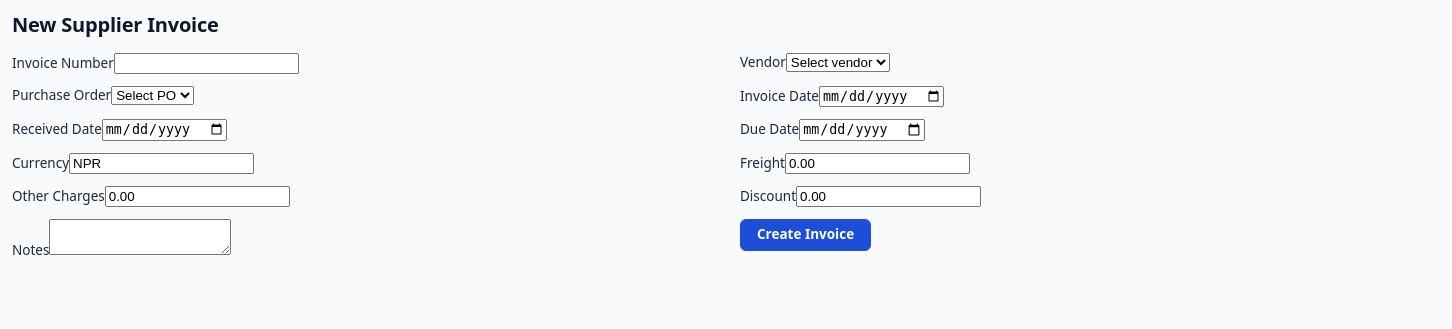
Test case: P3 invoice create › does not navigate when the server omits the new invoice id
This screenshot has width=1452, height=329.
Type "INV-X" into the field labelled "Invoice Number". click: point(206, 64)
box: [114,53,299,74]
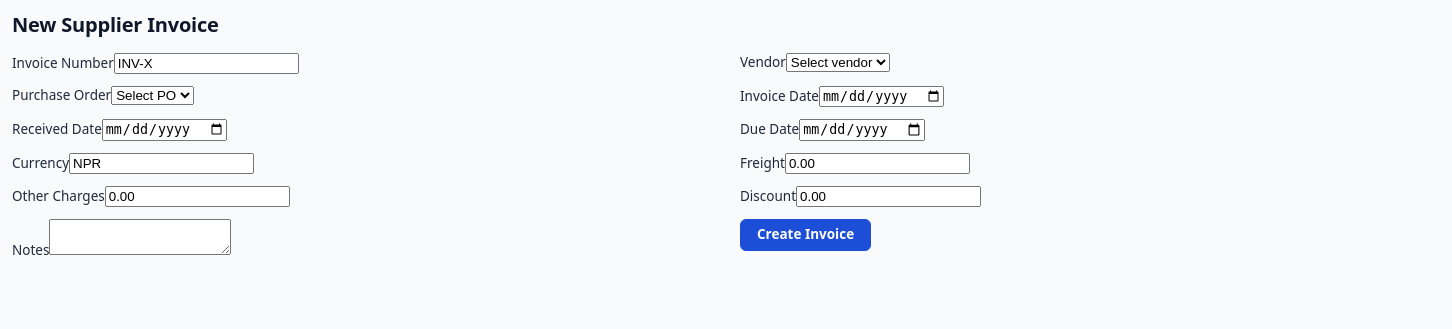
Select "Acme" in the dropdown labelled "Vendor". click: point(838, 62)
box: [786,53,890,72]
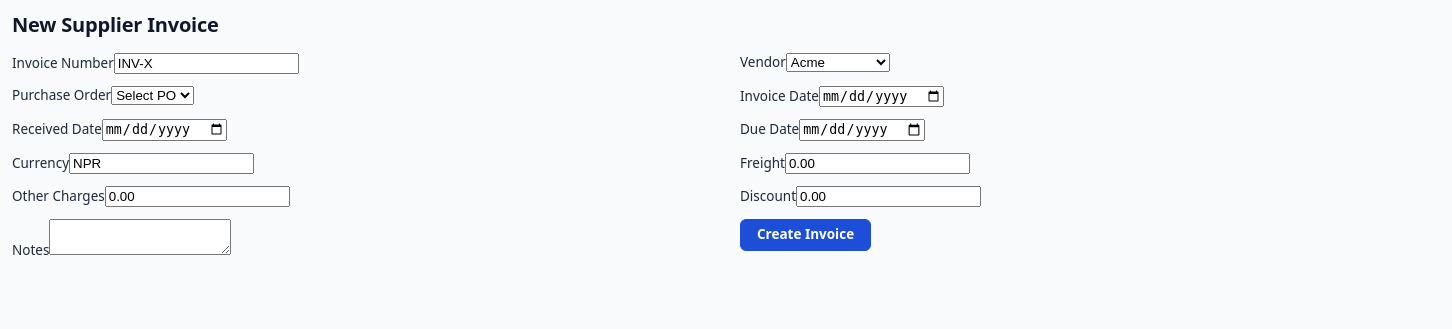
Select "PO-5 - 2" in the dropdown labelled "Purchase Order". click: point(153, 96)
box: [111,86,194,105]
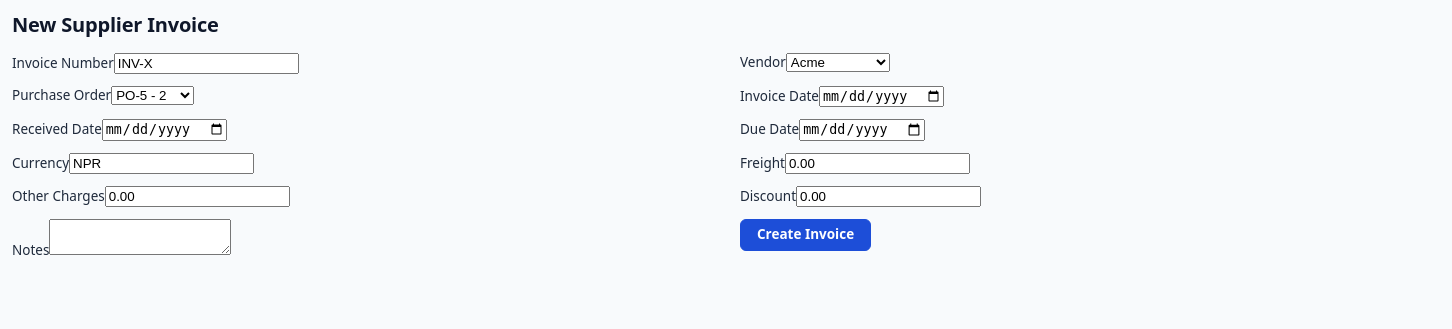
Type "2026-11-10" into the date field labelled "Invoice Date". click: point(882, 97)
box: [819,86,944,107]
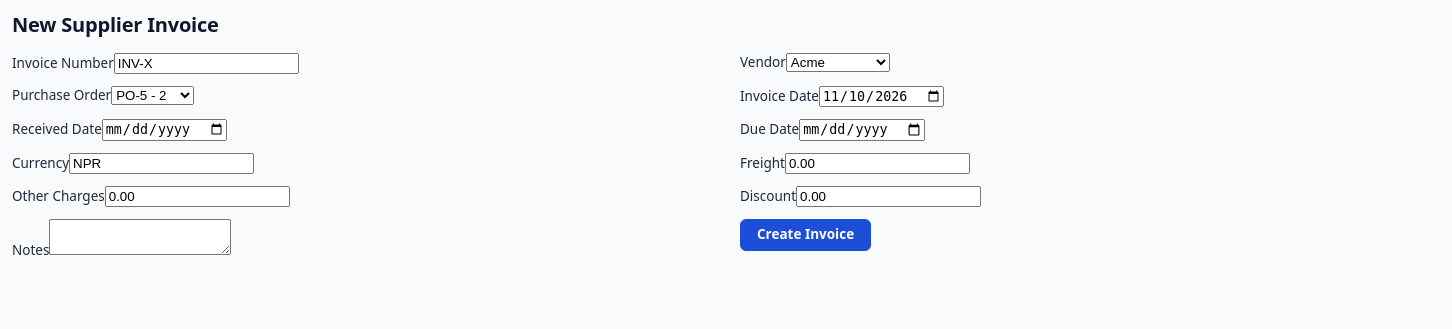
Type "2026-11-11" into the date field labelled "Received Date". click: point(164, 130)
box: [102,119,227,141]
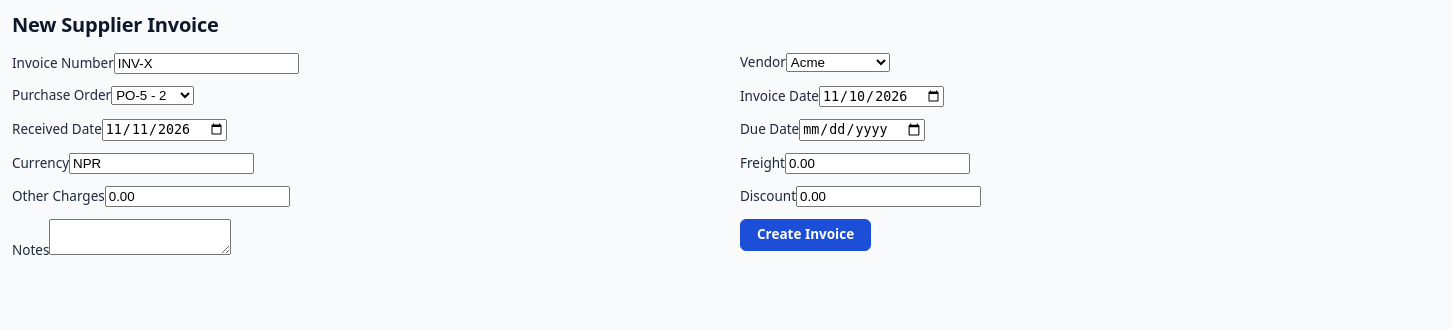
Click the button "Create Invoice". click: point(806, 235)
box: [740,219,871,251]
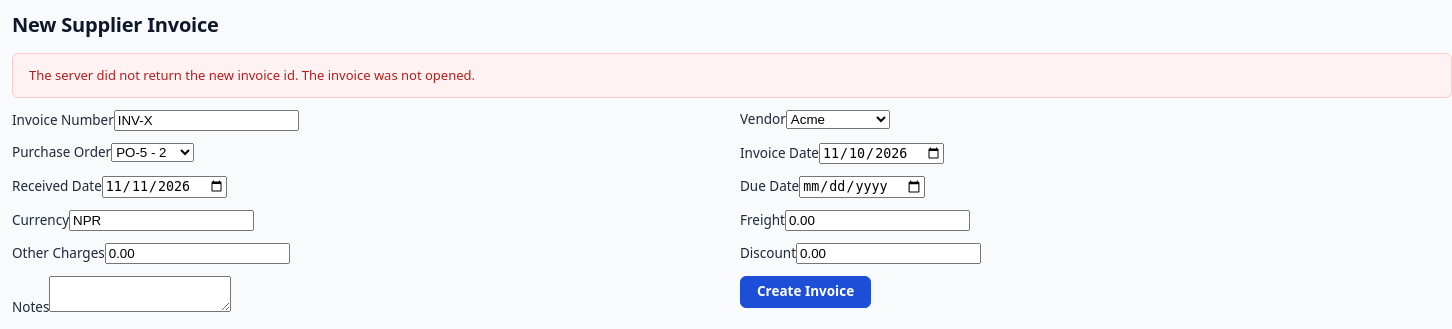
Result: the message "The server did not return the new invoice id. The invoice was not opened." is shown at [12,53,1451,98]
Result: the message shows "did not return the new invoice id" at [29,66,475,84]
